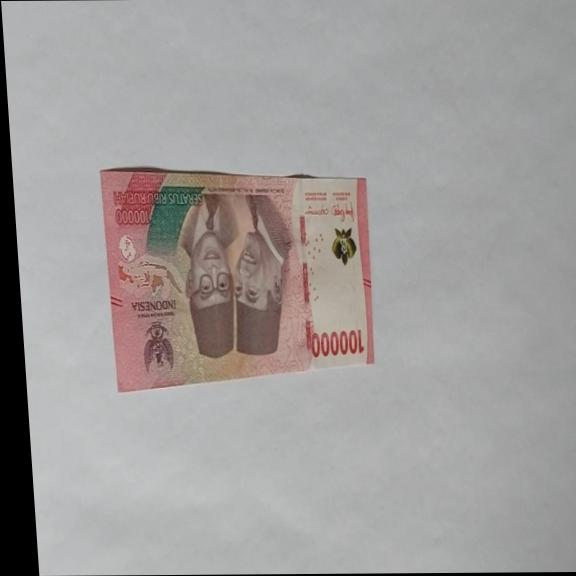Kertas: (99, 165, 380, 393), (309, 327, 365, 359)
